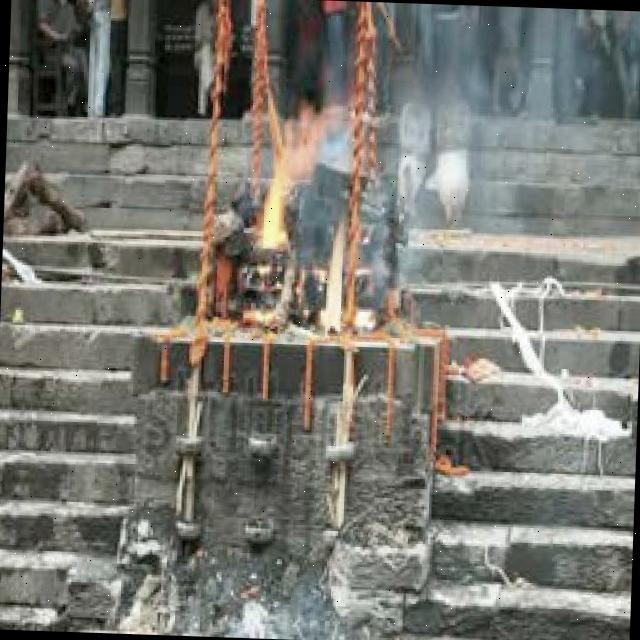fire: (250, 100, 324, 255), (301, 216, 363, 332)
